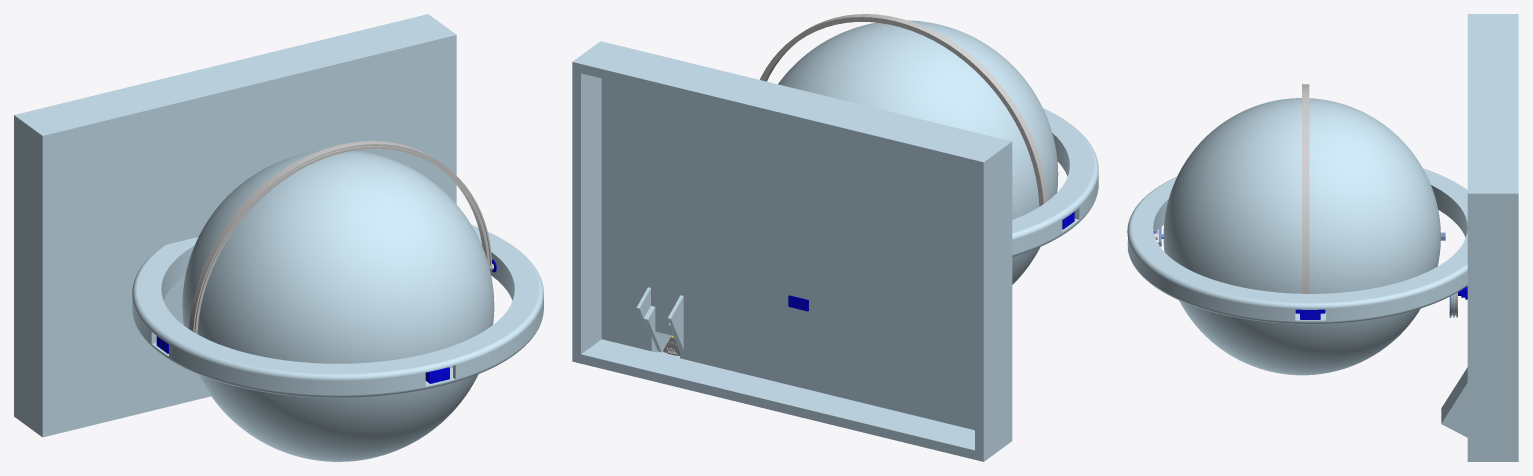
File: cad model.glb
3 renders of one model, left to right at view 1: azimuth 30°, elevation 25°; view 2: azimuth 150°, elevation 25°; view 3: azimuth 270°, elevation 25°, orthographic. The views are drawn at different scales.
Visible parts, largest first — view 1: Part 1 (×2), Part 2; view 2: Part 1 (×2), Part 2; view 3: Part 1 (×2), Part 2.
Boxes of the visible parts, <box> form: Part 1 (×2): <box>14,14,543,461</box>; Part 2: <box>189,141,493,333</box>; Part 1 (×2): <box>572,20,1098,461</box>; Part 2: <box>760,14,1047,206</box>; Part 1 (×2): <box>1127,14,1518,461</box>; Part 2: <box>1302,84,1309,293</box>.
Size of the model in its own units: 0.46 by 0.3273 by 0.423.
